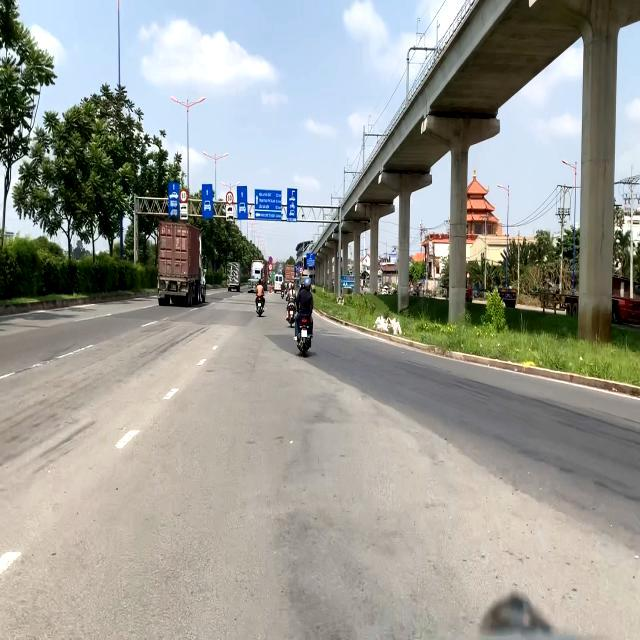Cam dung xe va do xe: (268, 256, 272, 264)
Toc do toi da cho phep: (226, 190, 234, 206), (180, 189, 188, 203)
